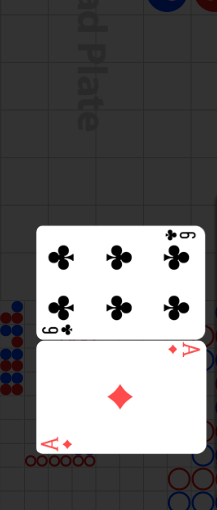6C: (162, 228, 197, 243)
AD: (41, 435, 75, 451)
